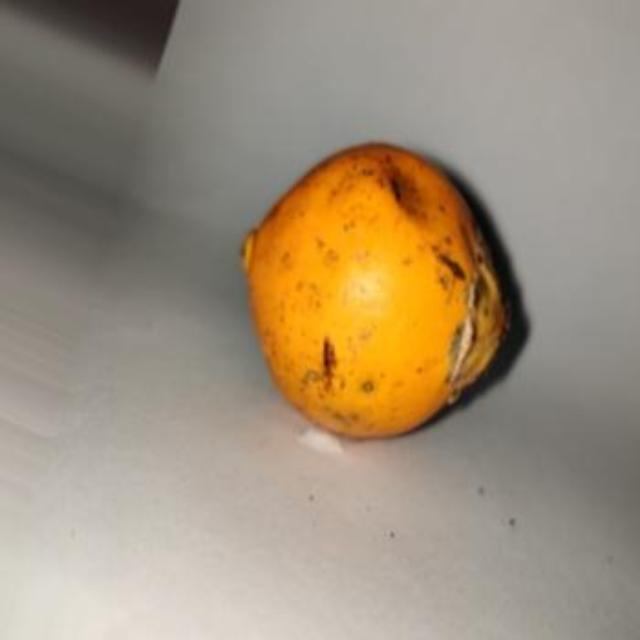good: (240, 143, 516, 441)
